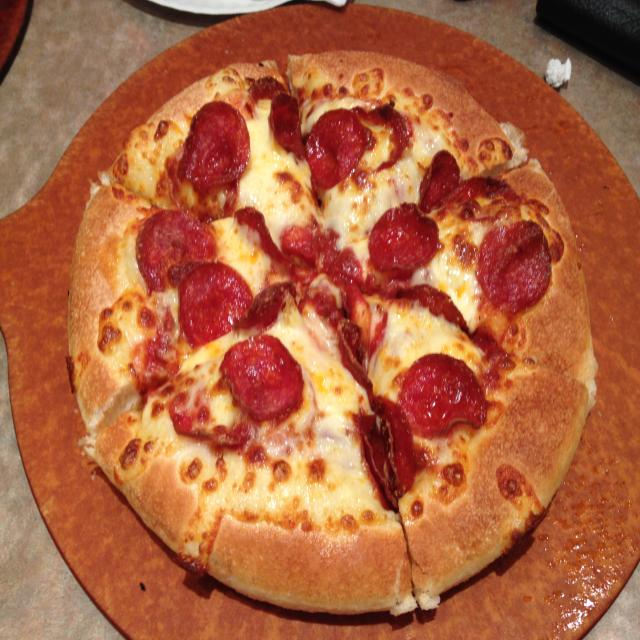pepperoni: (399, 348, 488, 438), (180, 97, 258, 190), (131, 205, 214, 292), (224, 332, 306, 420), (478, 218, 550, 316), (180, 260, 256, 348), (304, 105, 372, 198), (367, 200, 439, 271), (170, 384, 252, 445), (361, 410, 405, 508), (398, 282, 472, 335), (237, 202, 294, 269), (243, 278, 293, 333), (270, 87, 308, 159), (421, 148, 461, 213), (336, 313, 371, 381), (455, 168, 511, 209)
pizza: (62, 56, 600, 624)
